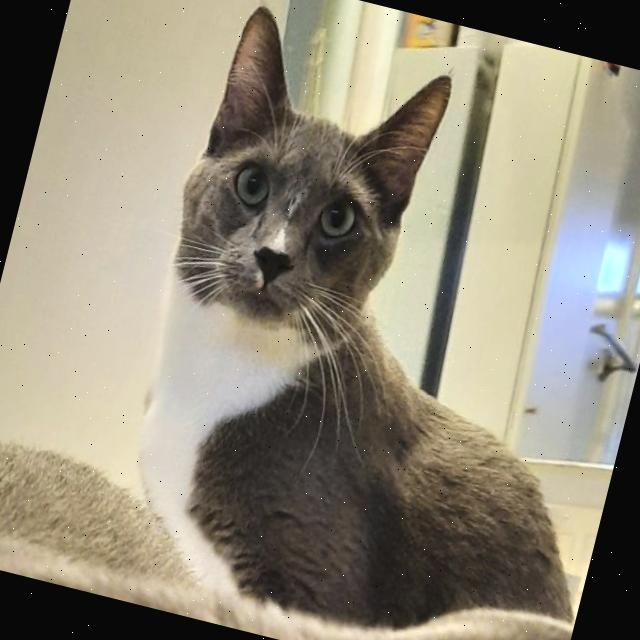russian_blue_cat: (135, 0, 492, 419)
